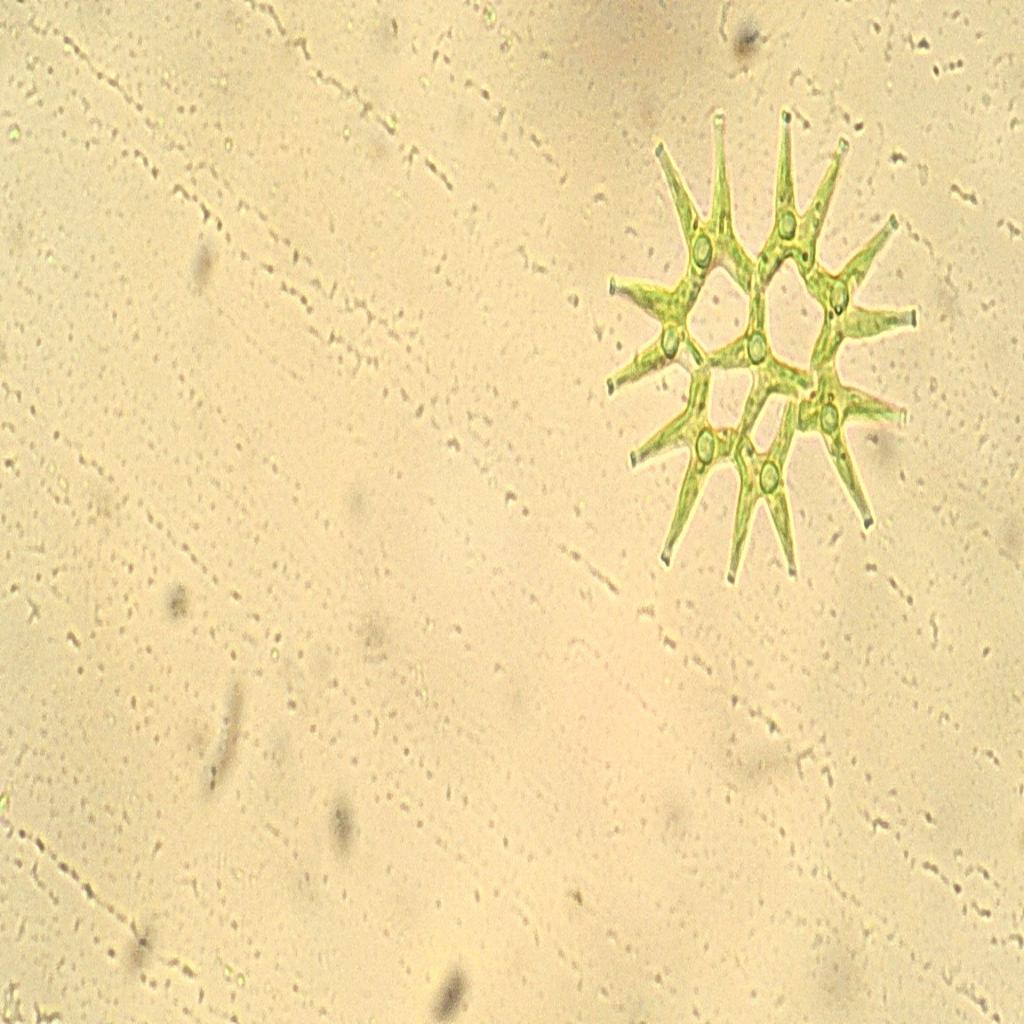Pediastrum_CTH: (599, 96, 921, 613)
